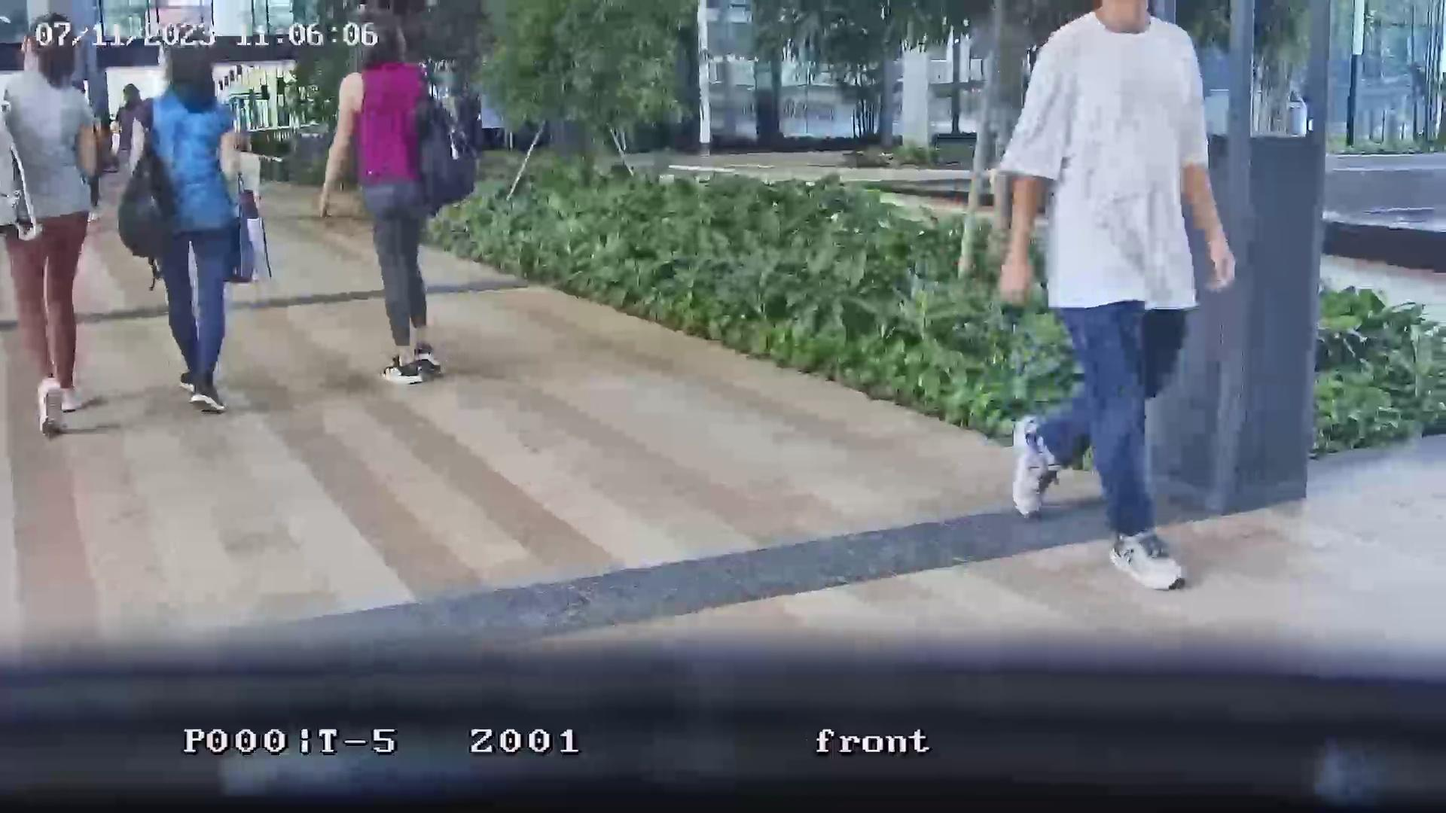person: (996, 1, 1237, 593), (116, 43, 261, 416), (315, 17, 443, 383), (0, 32, 105, 439), (112, 82, 148, 170)
